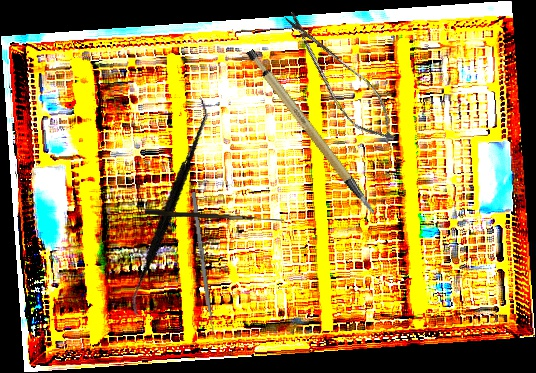Hook Surgical: (144, 208, 285, 222)
Micro Scissor: (271, 2, 408, 154)
Pusher: (190, 191, 218, 348)
Scalpel Handle: (243, 34, 377, 232)
Spatula Surgical: (91, 97, 246, 316)
